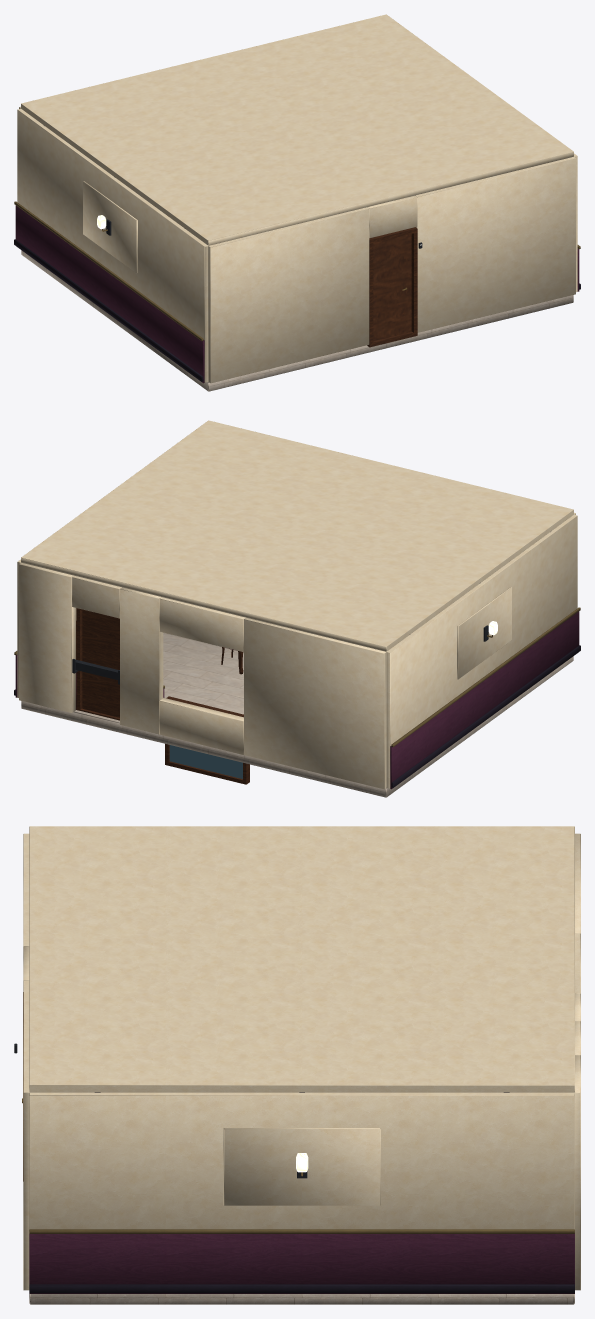
The model's file is explore3d__service_lounge.glb.
The picture shows the model from 3 angles, top to bottom: view 1: azimuth 30°, elevation 25°; view 2: azimuth 150°, elevation 25°; view 3: azimuth 270°, elevation 25°; orthographic projection. The views are drawn at different scales.
Parts seen in each view (by area): view 1: Rebuilt_service_lounge; view 2: Rebuilt_service_lounge; view 3: Rebuilt_service_lounge.
Part boxes in pixels (x1,y1,x2,y2): Rebuilt_service_lounge: (14,14,580,391); Rebuilt_service_lounge: (14,420,580,797); Rebuilt_service_lounge: (14,826,580,1304).
Bounding box in the file's own units: 9.79 × 4.09 × 8.32.
Materials: 17 (15 with a texture image).
